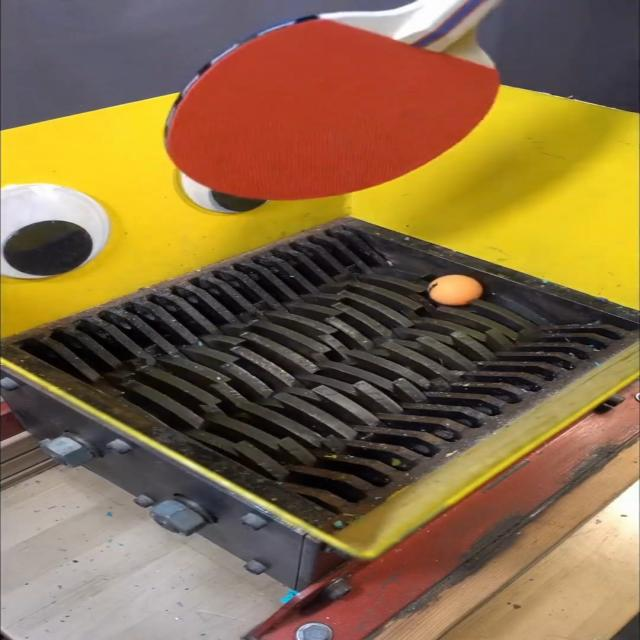Broyeur: (2, 220, 640, 544)
